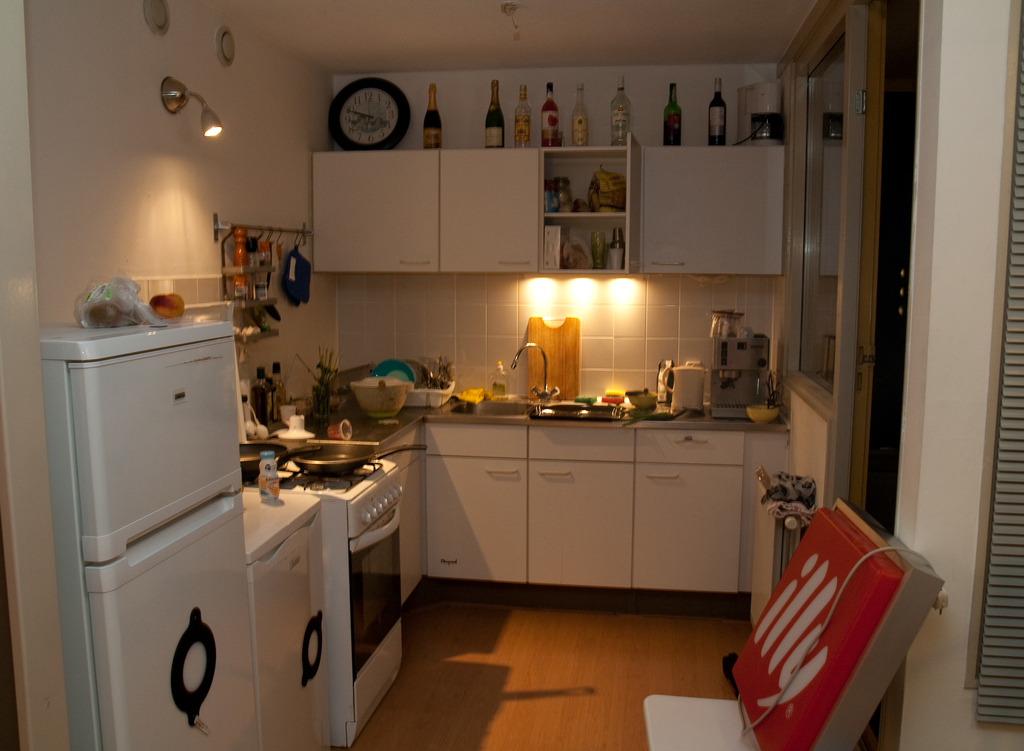cabinet door: (643, 156, 779, 269), (316, 155, 440, 270), (423, 460, 529, 585), (638, 462, 743, 588), (532, 462, 635, 589), (440, 156, 537, 263)
handle: (113, 483, 241, 548), (646, 467, 683, 489), (398, 256, 434, 273), (540, 468, 577, 484), (650, 253, 687, 269), (482, 467, 518, 482), (502, 256, 534, 269)
refrigerator door: (99, 539, 238, 751), (66, 353, 241, 491), (258, 555, 324, 751)
